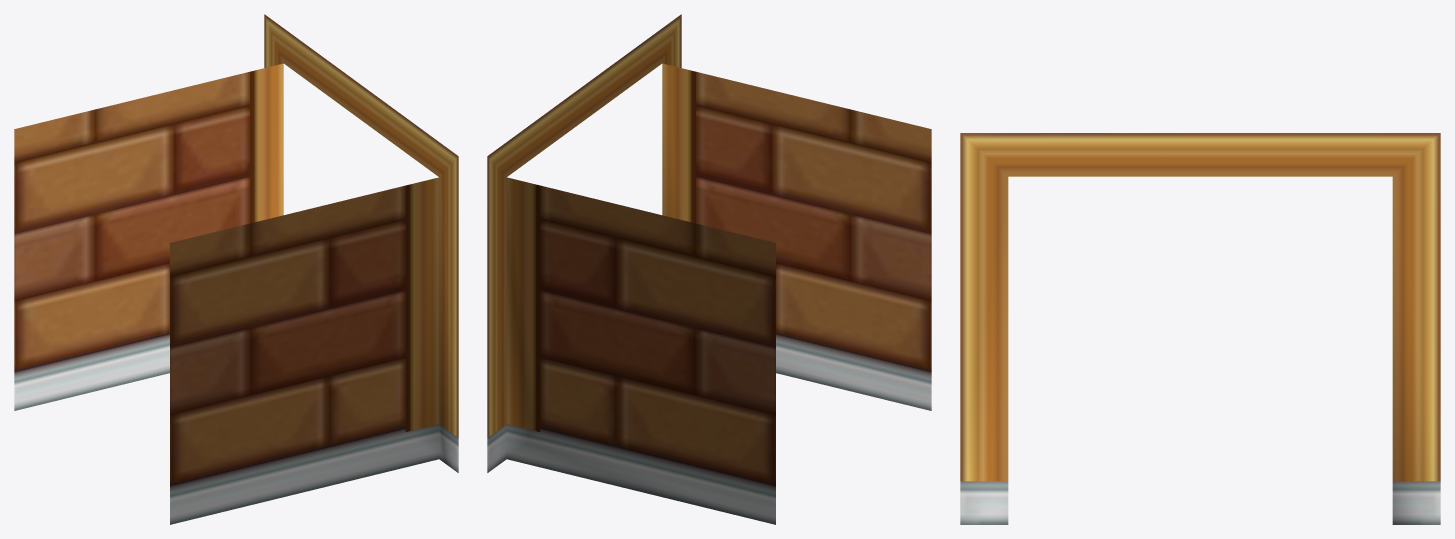
The model's file is museum_mini_wall.dae.
3 views of the same model, side by side, from view 1: azimuth 30°, elevation 25°; view 2: azimuth 150°, elevation 25°; view 3: azimuth 270°, elevation 25° (orthographic). The views are drawn at different scales.
Parts seen in each view (by area): view 1: museum_mini_wall; view 2: museum_mini_wall; view 3: museum_mini_wall.
Part boxes in pixels (left/top/right/bottom): museum_mini_wall: left=14, top=14, right=458, bottom=524; museum_mini_wall: left=487, top=14, right=931, bottom=524; museum_mini_wall: left=960, top=133, right=1440, bottom=524.
Bounding box in the file's own units: 64 × 72 × 80.
Materials: 1 (1 with a texture image).
